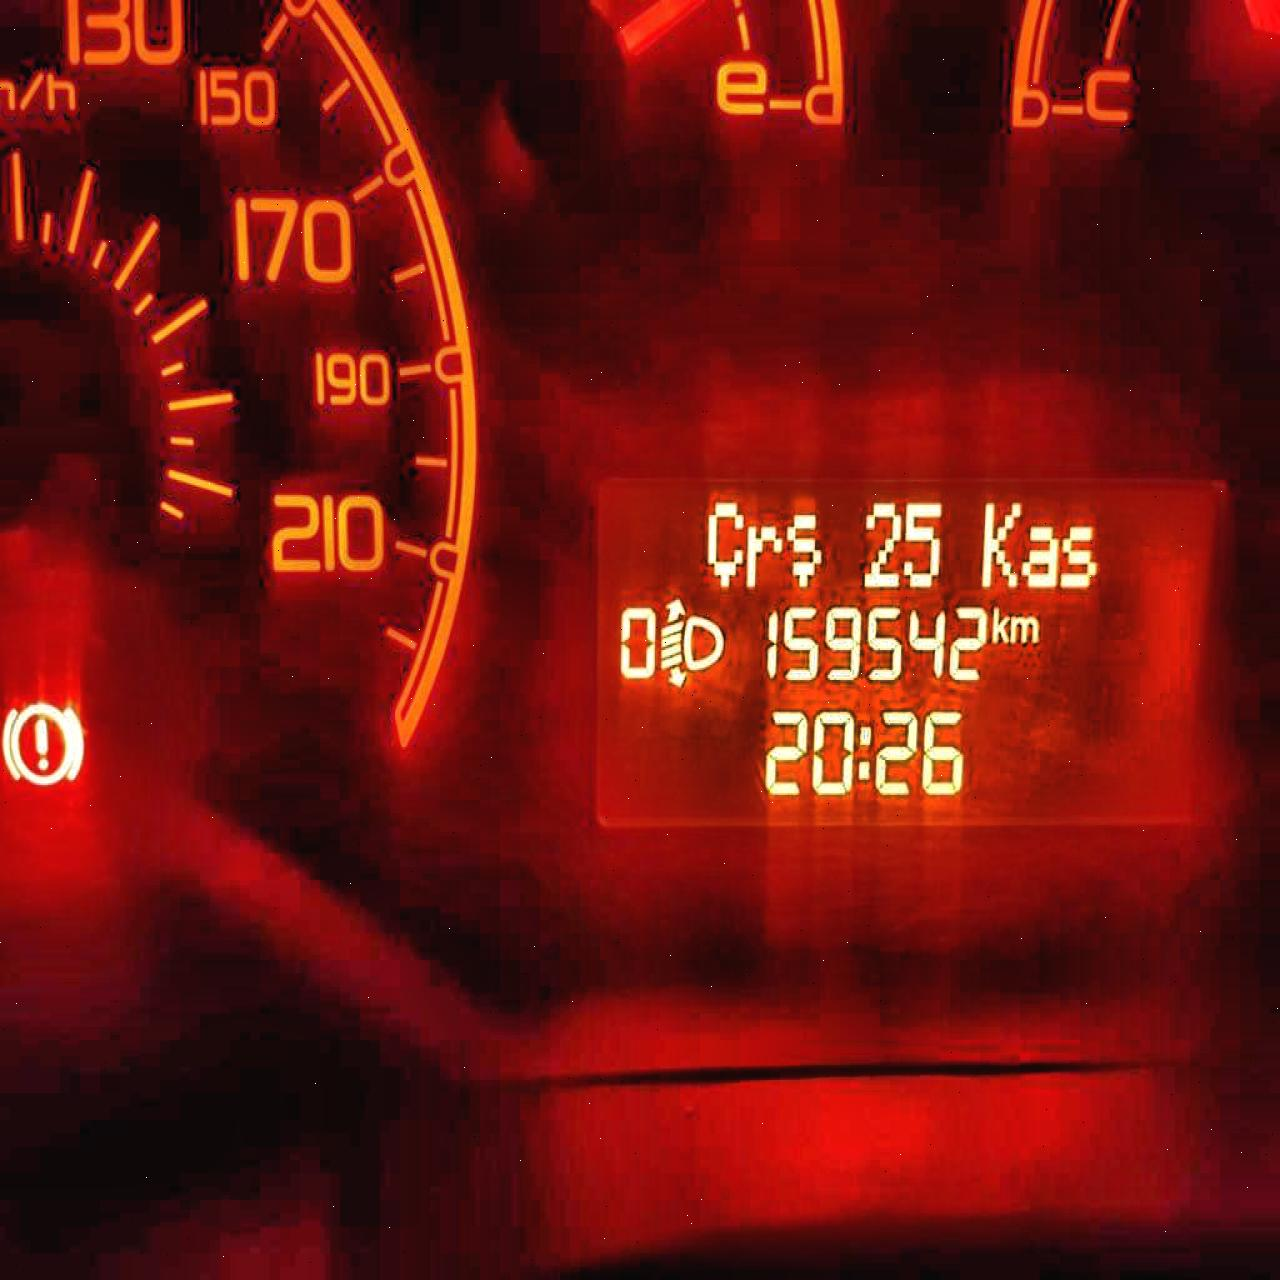0: (810, 708, 855, 795), (618, 604, 656, 680)
1: (765, 608, 779, 680)
2: (761, 707, 809, 795), (858, 498, 903, 590), (873, 708, 918, 795), (946, 604, 990, 682)
4: (906, 607, 945, 680)
5: (904, 501, 942, 587), (781, 604, 821, 682), (864, 605, 903, 680)
6: (919, 708, 964, 797)
9: (823, 605, 862, 680)
X: (980, 498, 1021, 588), (707, 499, 744, 588), (785, 511, 821, 586), (1057, 524, 1097, 588), (1020, 524, 1058, 588), (745, 522, 783, 586), (1008, 613, 1037, 644), (990, 604, 1010, 644), (858, 723, 871, 779)
odometer: (586, 464, 1232, 838)
